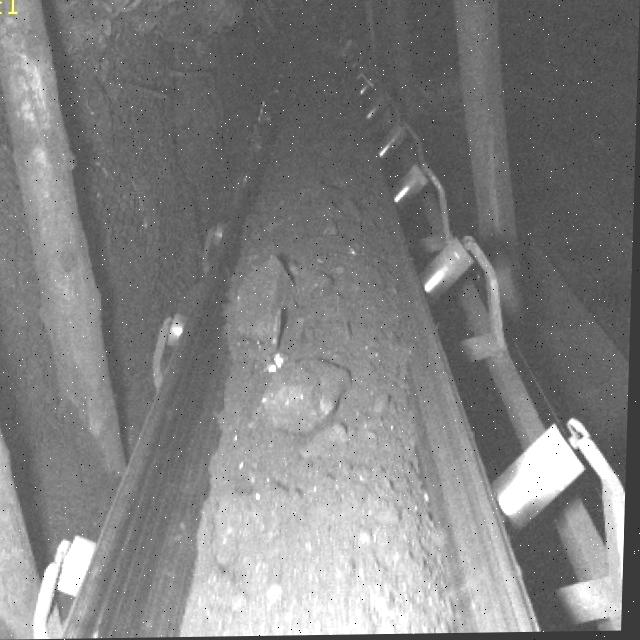large_sized_coal: (263, 363, 350, 429), (230, 261, 295, 342)
